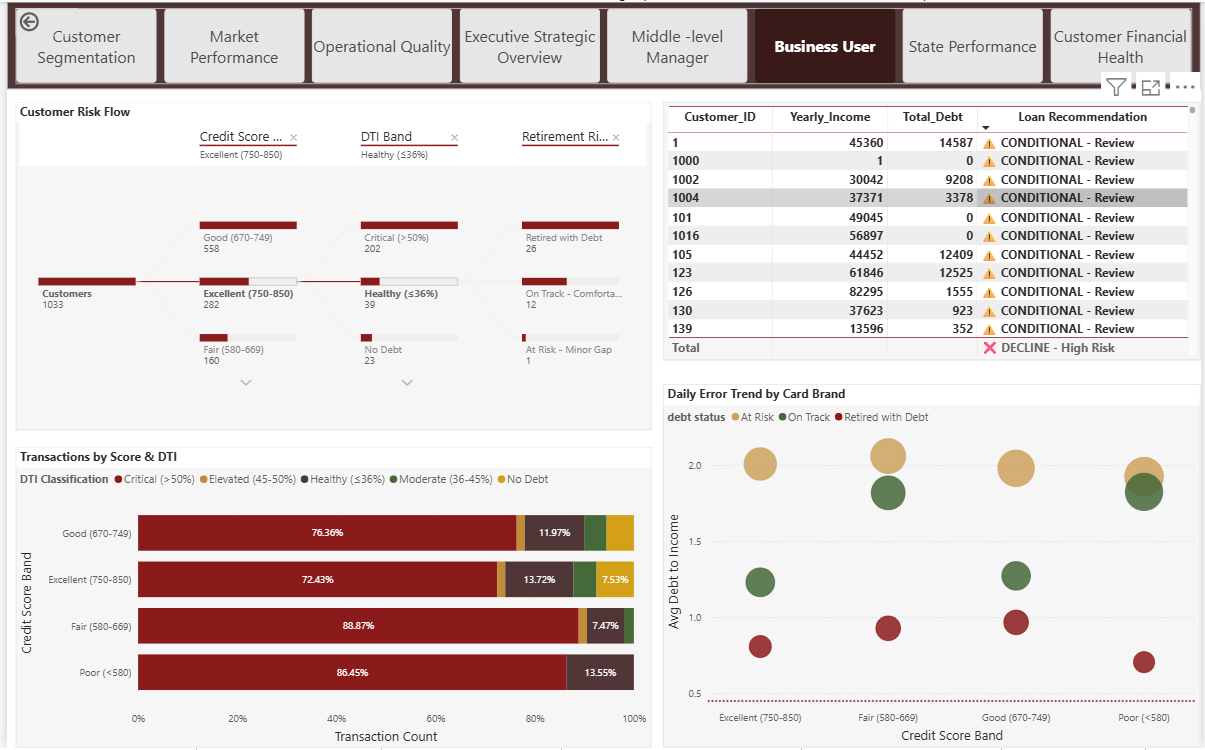

The page's visual inventory and layout, read from the dashboard file:
{"tool":"powerbi","page":{"name":"Business User ","canvas":[1600,1000],"ordinal":5},"visuals":[{"type":"textbox","box":[0,0,1600,116.7],"z":0},{"type":"pageNavigator","box":[11.7,8.3,1576.7,101.7],"z":1000},{"type":"actionButton","box":[11.7,8.3,83.3,36.7],"z":2000},{"type":"scatterChart","title":"Daily Error Trend by Card Brand","fields":{"Y":["Cards.Avg Debt to Income"],"X":["Customers.Credit Score Band"],"Size":["Avg(Customers.Total_Debt)"],"Series":["Customers.debt status"]},"box":[880,513.3,720,486.7],"z":3000},{"type":"hundredPercentStackedBarChart","title":"Transactions by Score & DTI","fields":{"Category":["Customers.Credit Score Band"],"Series":["Customers.DTI Classification"],"Y":["Transactions.Total_Number_of_Transaction"]},"box":[12,596,852,404],"z":4000},{"type":"decompositionTreeVisual","title":"Customer Risk Flow","fields":{"Analyze":["Customers.Total Customers"],"ExplainBy":["Customers.Credit Score Band","Customers.DTI Classification","Customers.Retirement Risk"]},"box":[11.7,133.3,851.7,440],"z":5000},{"type":"tableEx","fields":{"Values":["Customers.Customer_ID","Customers.Yearly_Income","Customers.Total_Debt","Cards.Loan Recommendation"]},"box":[880,133.3,720,346.7],"z":6000}]}

Visuals, with their boxes in screenshot pixels (x1, y1, x2, y2), scaled from the page's 1600x1000 canvas onto the 1205x750 screenshot:
textbox: [x1=0, y1=0, x2=1204, y2=88]
pageNavigator: [x1=9, y1=6, x2=1196, y2=82]
actionButton: [x1=9, y1=6, x2=72, y2=34]
"Daily Error Trend by Card Brand" scatterChart: [x1=663, y1=385, x2=1204, y2=749]
"Transactions by Score & DTI" hundredPercentStackedBarChart: [x1=9, y1=447, x2=651, y2=749]
"Customer Risk Flow" decompositionTreeVisual: [x1=9, y1=100, x2=650, y2=430]
tableEx - Customers.Customer_ID x Customers.Yearly_Income: [x1=663, y1=100, x2=1204, y2=360]
